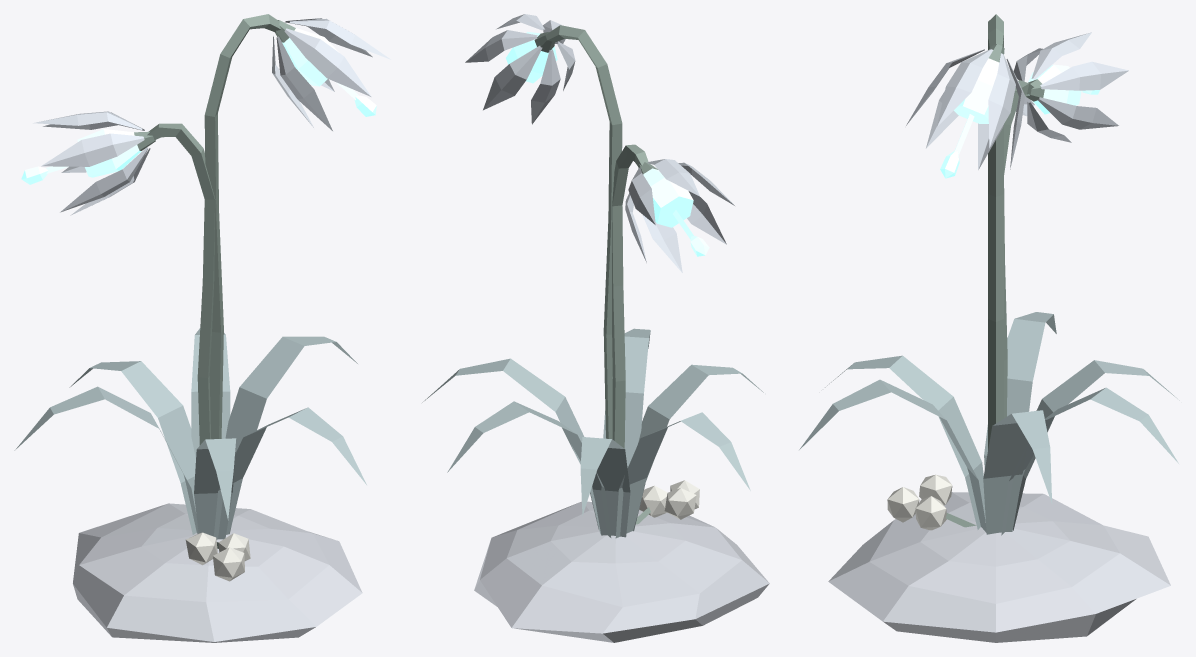
File: plant_t2_d.fbx
3 views of the same model, side by side, from view 1: azimuth 30°, elevation 25°; view 2: azimuth 150°, elevation 25°; view 3: azimuth 270°, elevation 25° (orthographic). The views are drawn at different scales.
Visible parts, largest first — view 1: plant_t2_d; view 2: plant_t2_d; view 3: plant_t2_d.
Part boxes in pixels (box(x1,y1,x2,y2)): plant_t2_d: box(14, 14, 390, 642); plant_t2_d: box(422, 14, 769, 642); plant_t2_d: box(799, 14, 1179, 642).
Bounding box in the file's own units: 29.81 × 47.09 × 27.72.
